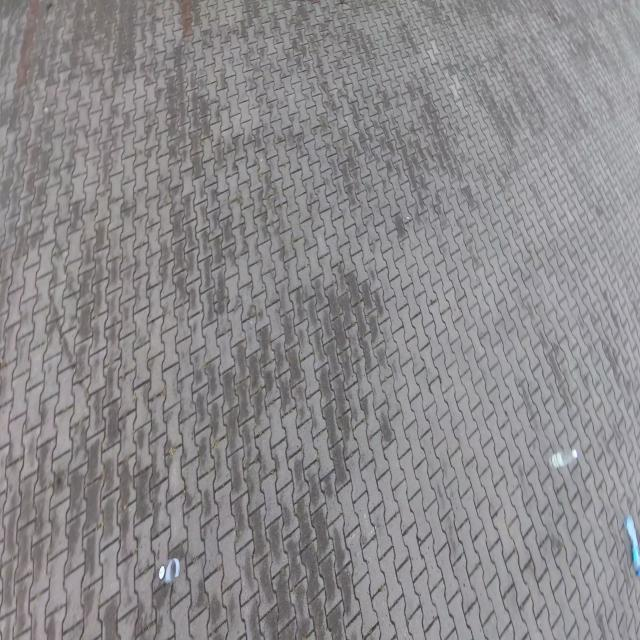rubbish: (624, 515, 639, 576), (549, 448, 577, 471), (158, 557, 181, 584)
